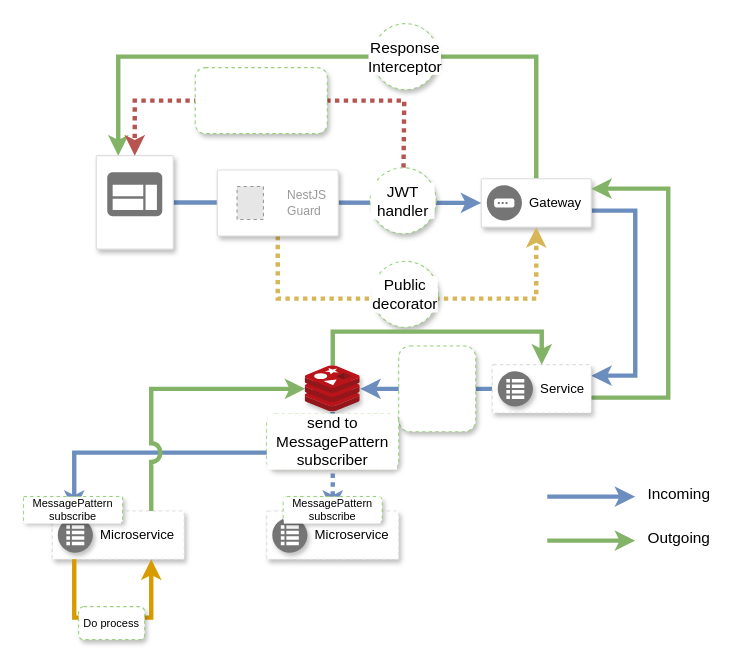
This 732x667 diagram has some shape labels left out. Grey dashed boxes stand in for pictures. The shapes that lost their labels are listed below. From the top down, each one's centre as x and y in pixels, then its label:
point 262,101: 401 Response
point 135,203: Application
point 437,389: Client Proxy send message
